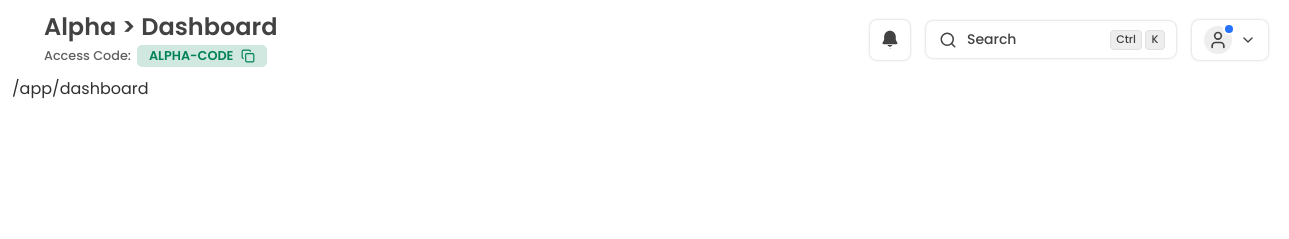
Test case: Header › returns focus to the profile button after "Settings" closes the menu
The image size is (1289, 239).
Step 1. Click the button named "Profile menu" → (1230, 40), box [1192, 20, 1268, 60]
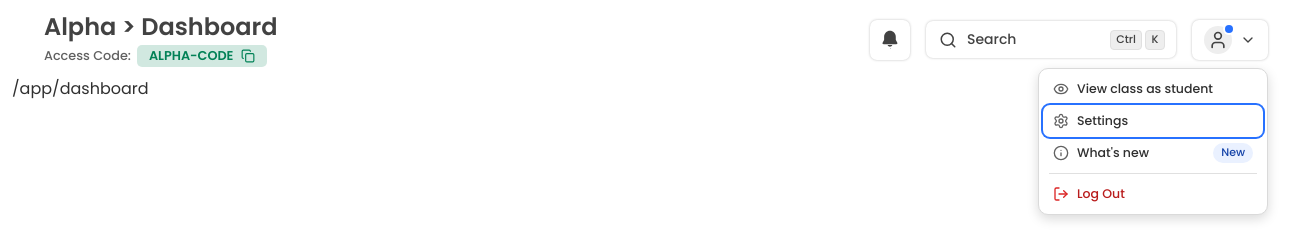
Step 2. Click the menu item "Settings" → (1153, 121), box [1043, 105, 1263, 137]
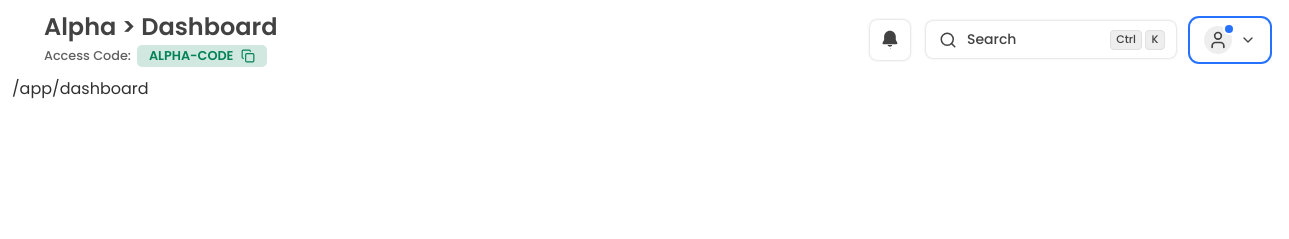
Expected: the menu is gone
